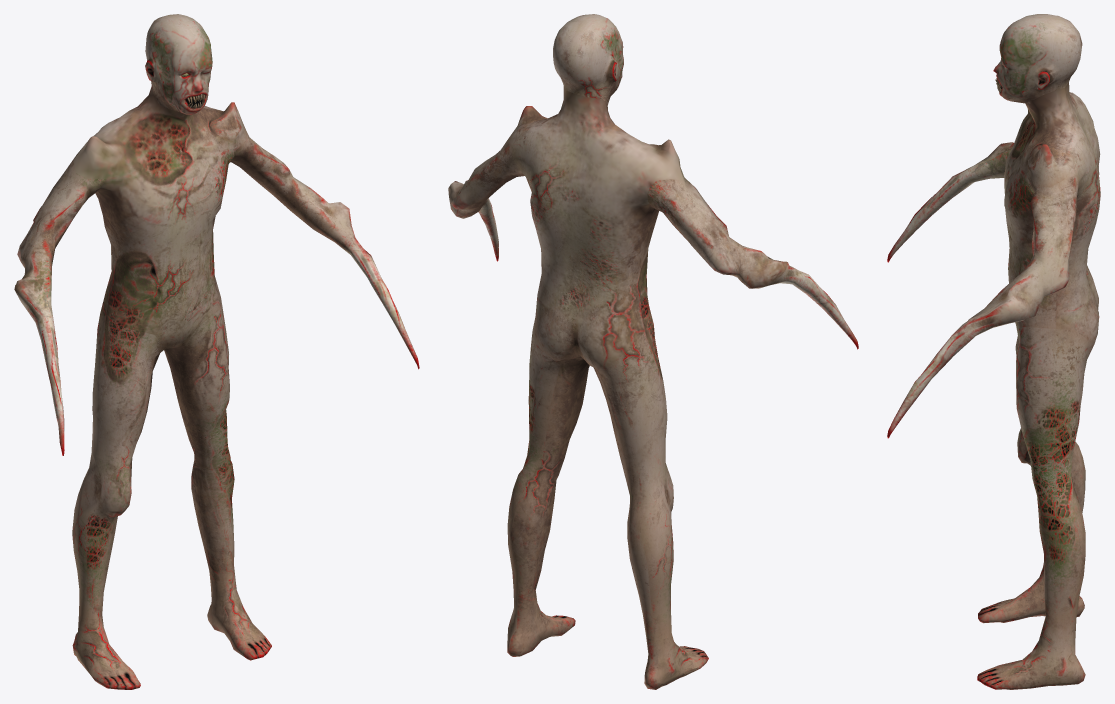
Rendered from Zombie.obj.
The picture shows the model from 3 angles, left to right: view 1: azimuth 30°, elevation 25°; view 2: azimuth 150°, elevation 25°; view 3: azimuth 270°, elevation 25°; orthographic projection.
Visible parts, largest first — view 1: Object_7; view 2: Object_7; view 3: Object_7.
Part boxes in pixels (x1,y1,x2,y2): Object_7: (14, 14, 419, 689); Object_7: (448, 14, 858, 689); Object_7: (887, 14, 1100, 689).
Size of the model in its own units: 0.0105 by 0.0178 by 0.00539.
1 material, 1 textured.
